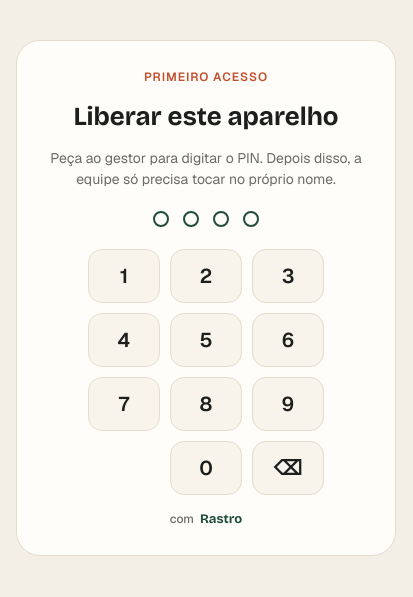
Test case: US01 — DeviceGate › PIN sem permissão mostra a mensagem da API (erro)
expect the heading "Liberar este aparelho" is shown: met, box [73,101,338,132]
Click the button "9" at {"x": 288, "y": 404}, box [252,377,324,431]
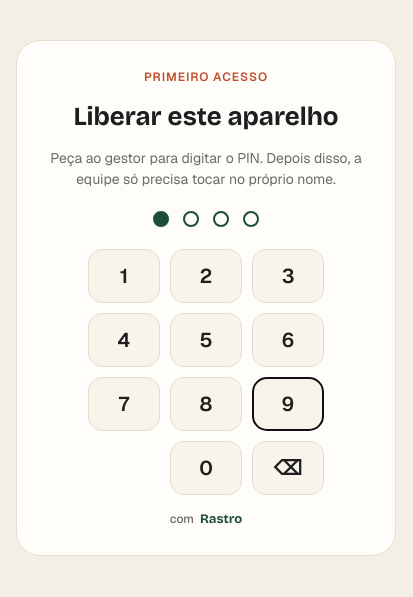
Click the button "9" at {"x": 288, "y": 404}, box [252,377,324,431]
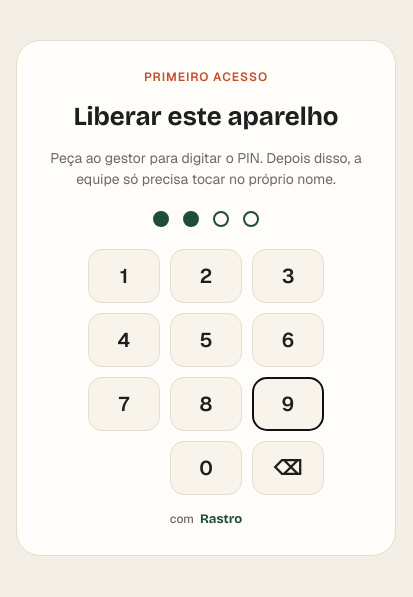
Click the button "9" at {"x": 288, "y": 404}, box [252,377,324,431]
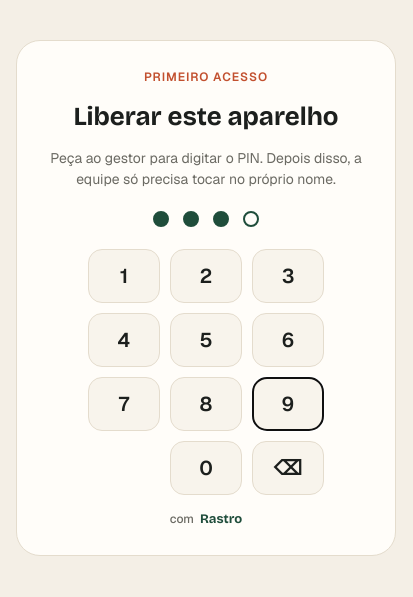
Click the button "9" at {"x": 288, "y": 404}, box [252,377,324,431]
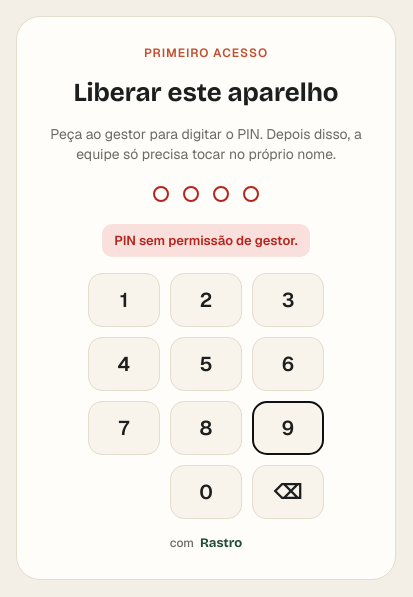
expect the message reads "PIN sem permissão de gestor.": met, box [114,232,298,249]
